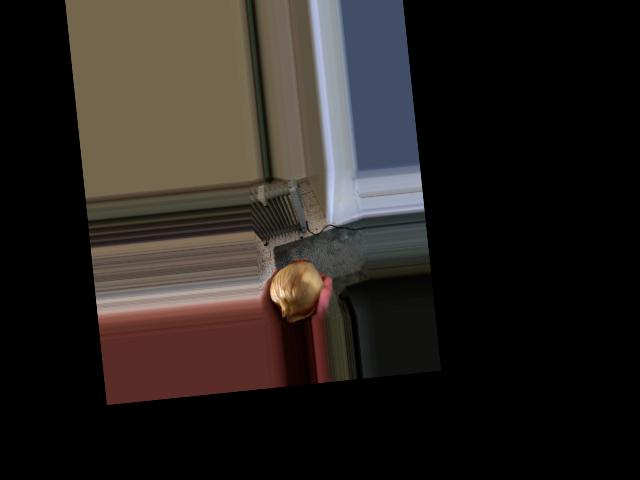onion: (262, 255, 325, 320)
